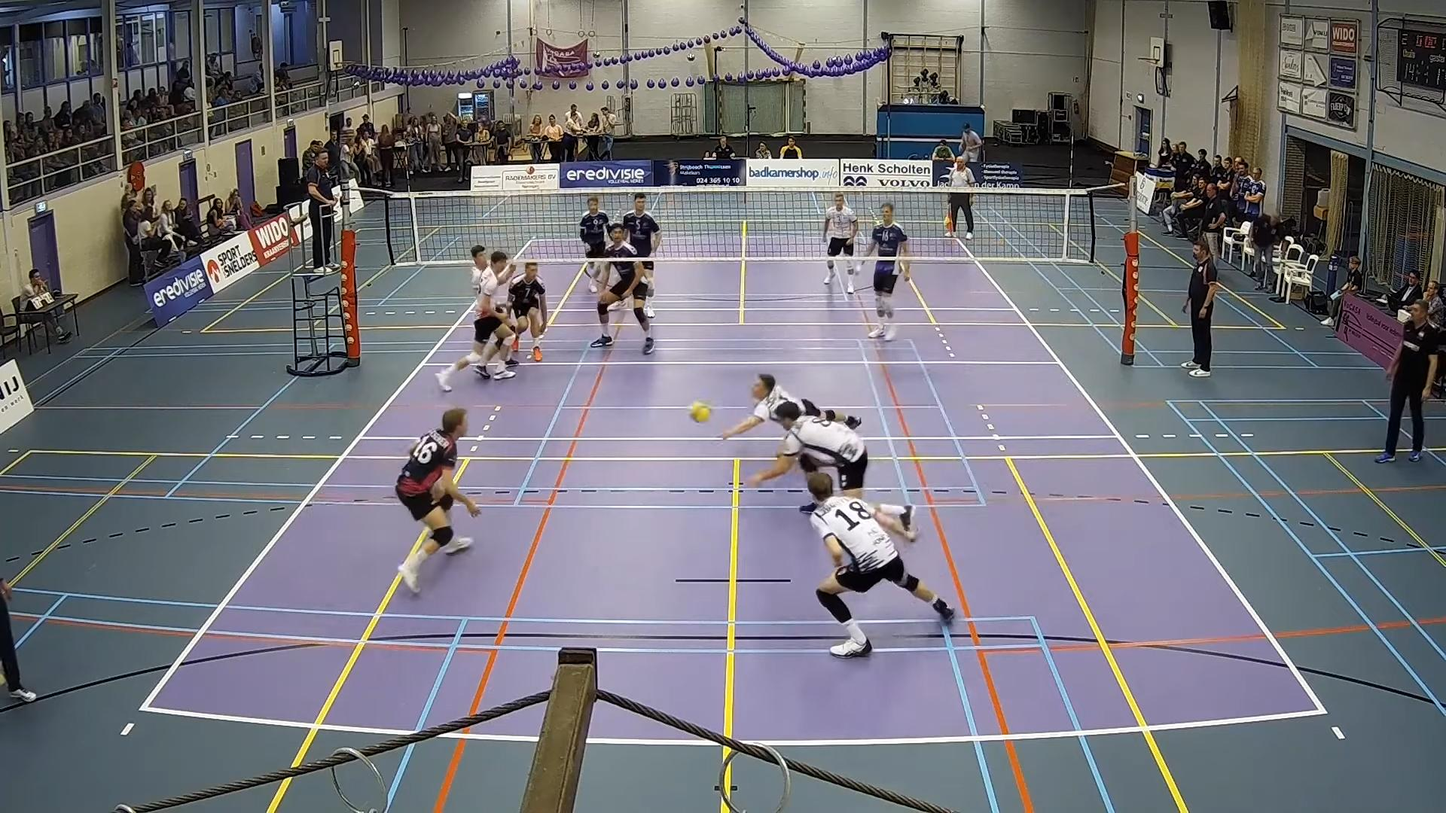Dig: (715, 402, 939, 542)
Player: (807, 472, 954, 657), (395, 408, 479, 592), (748, 401, 868, 499), (436, 245, 514, 391), (721, 373, 860, 439), (590, 224, 654, 354), (865, 203, 909, 340), (622, 193, 661, 318), (509, 263, 547, 361), (824, 192, 858, 292), (579, 196, 610, 294)
ball: (688, 398, 711, 423)
